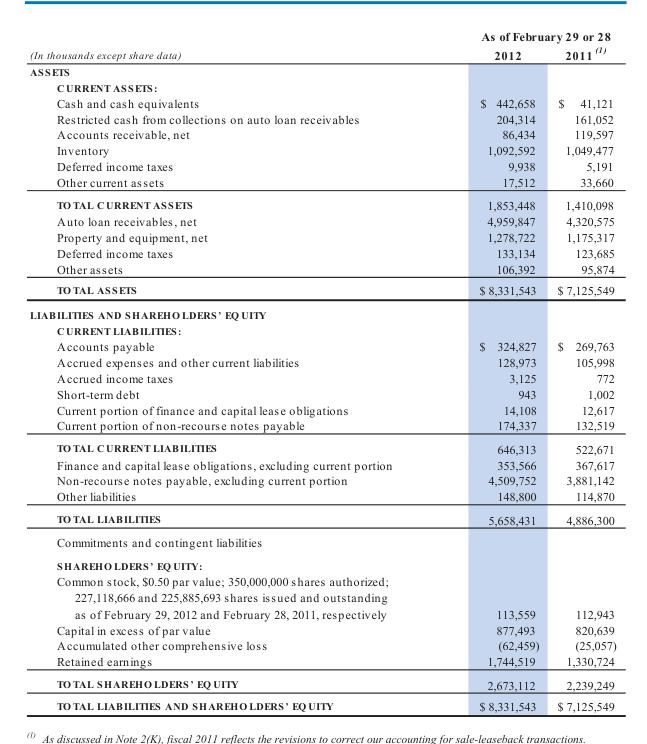table: (28, 29, 615, 712)
table column: (28, 29, 434, 712), (434, 29, 547, 712), (547, 29, 615, 712)
table column header: (28, 29, 615, 63)
table projected row header: (28, 530, 615, 554), (28, 302, 615, 322), (28, 554, 615, 572), (28, 63, 615, 79), (28, 79, 615, 94), (28, 322, 615, 337)
table row: (28, 572, 615, 621), (28, 530, 615, 554), (28, 279, 615, 302), (28, 507, 615, 530), (28, 672, 615, 695), (28, 43, 615, 63), (28, 193, 615, 213), (28, 302, 615, 322), (28, 436, 615, 456), (28, 174, 615, 193), (28, 260, 615, 279), (28, 417, 615, 436), (28, 488, 615, 507), (28, 653, 615, 672), (28, 554, 615, 572), (28, 695, 615, 712), (28, 63, 615, 79), (28, 94, 615, 110), (28, 110, 615, 126), (28, 126, 615, 142), (28, 142, 615, 158), (28, 158, 615, 174), (28, 213, 615, 229), (28, 244, 615, 260), (28, 337, 615, 353), (28, 353, 615, 369), (28, 369, 615, 385), (28, 385, 615, 401), (28, 401, 615, 417), (28, 456, 615, 472), (28, 472, 615, 488), (28, 621, 615, 637), (28, 637, 615, 653), (28, 79, 615, 94), (28, 229, 615, 244), (28, 322, 615, 337), (28, 29, 615, 43)
table spanning cell: (28, 29, 434, 63), (434, 29, 615, 43)
